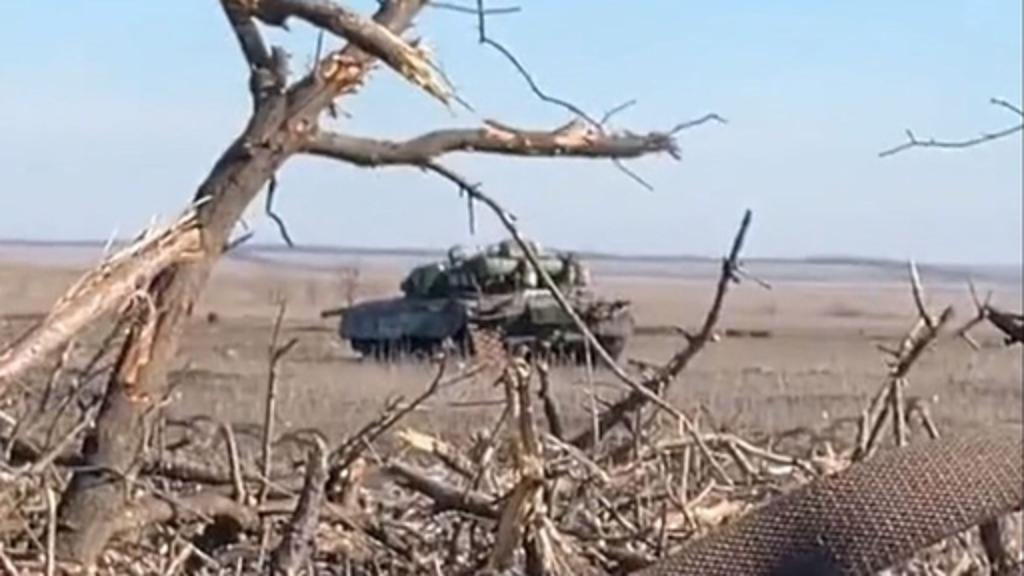TANK: (316, 232, 638, 374)
